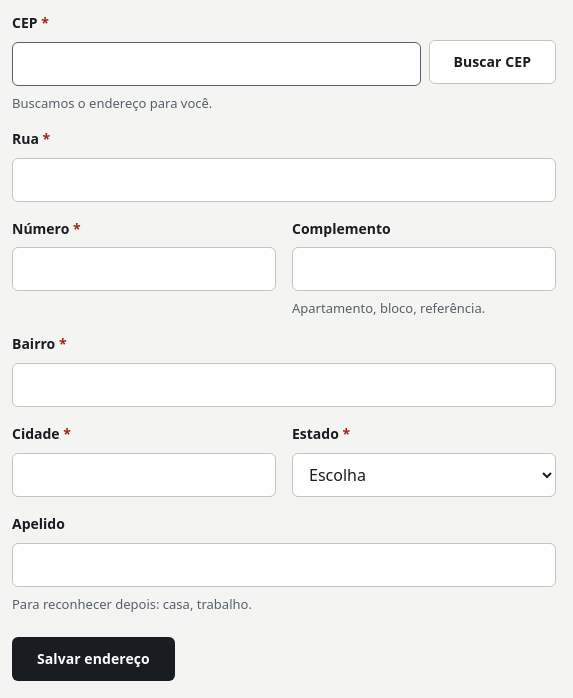
Test: FormularioDeEndereco › sem conexão na busca de CEP, diz isso no campo
The image size is (573, 698).
Type "01001000" into the field labelled "CEP *". click: (216, 64)
box: [12,42,420,86]
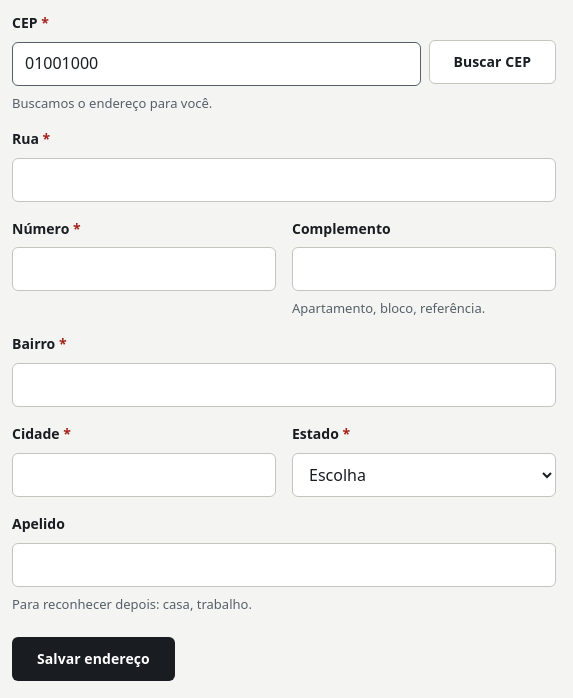
Click the button "Buscar CEP". click: (492, 62)
box: [428,40,556,84]
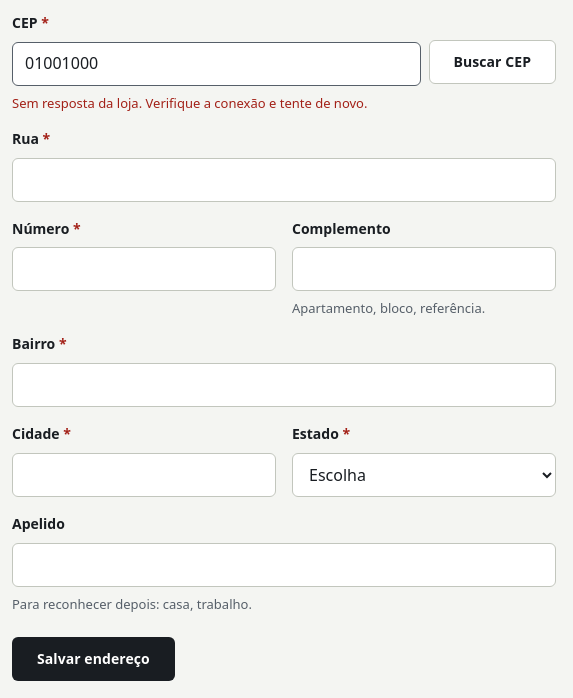
Expected: the element with class "campo" shows "conexão", [12,94,368,112]
